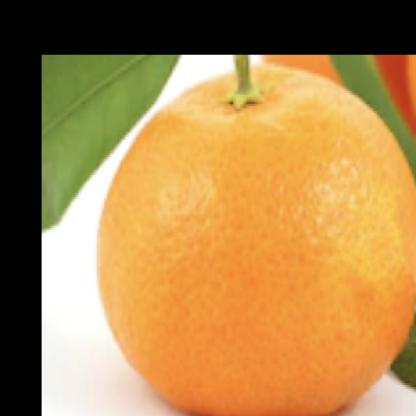fresh: (99, 61, 416, 416)
